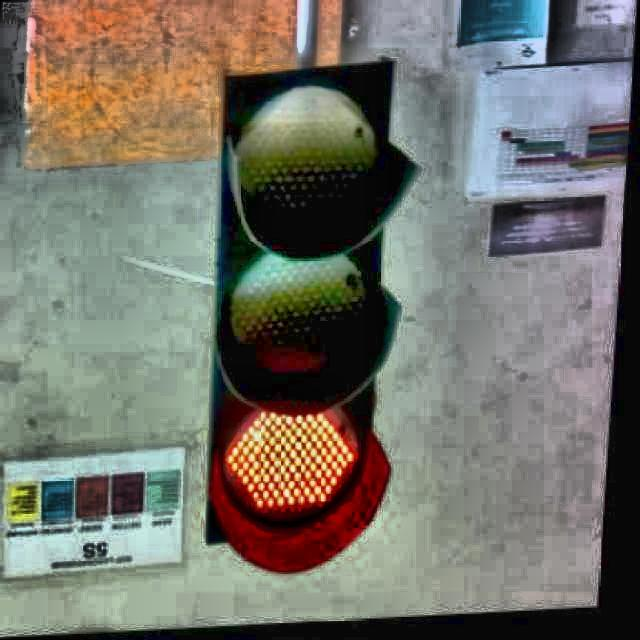red: (219, 74, 401, 559)
